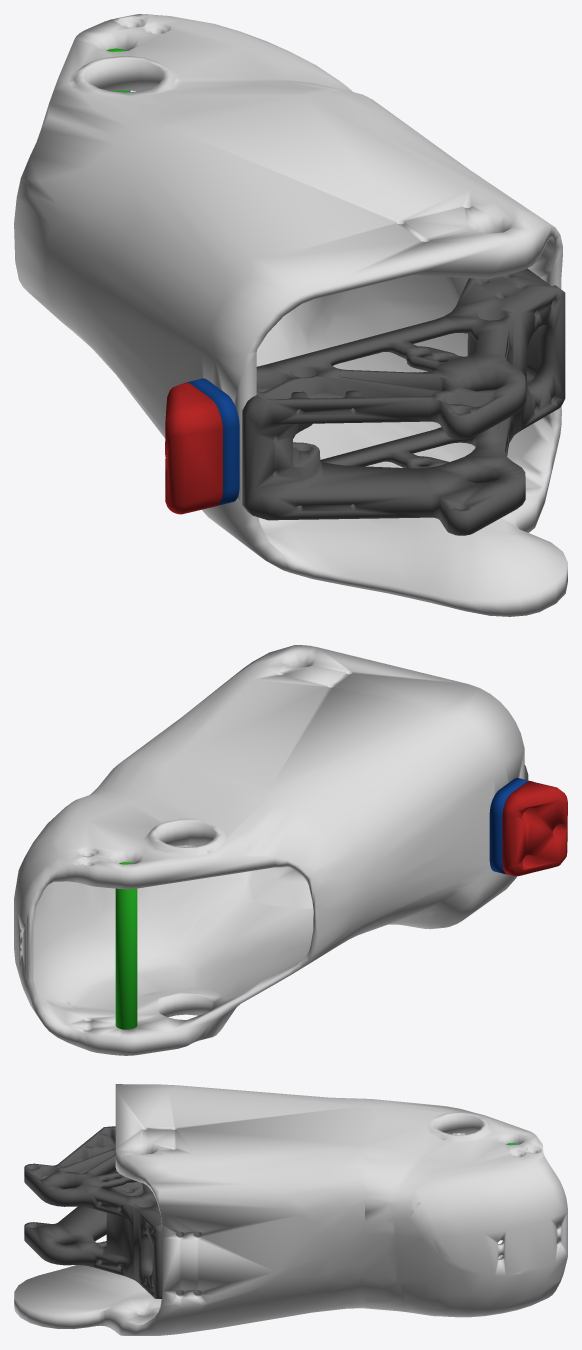
Rendered from left_thigh.obj.
The picture shows the model from 3 angles, top to bottom: view 1: azimuth 30°, elevation 25°; view 2: azimuth 150°, elevation 25°; view 3: azimuth 270°, elevation 25°; orthographic projection. The views are drawn at different scales.
Bounding box in the file's own units: 0.2618 × 0.17 × 0.4727.
